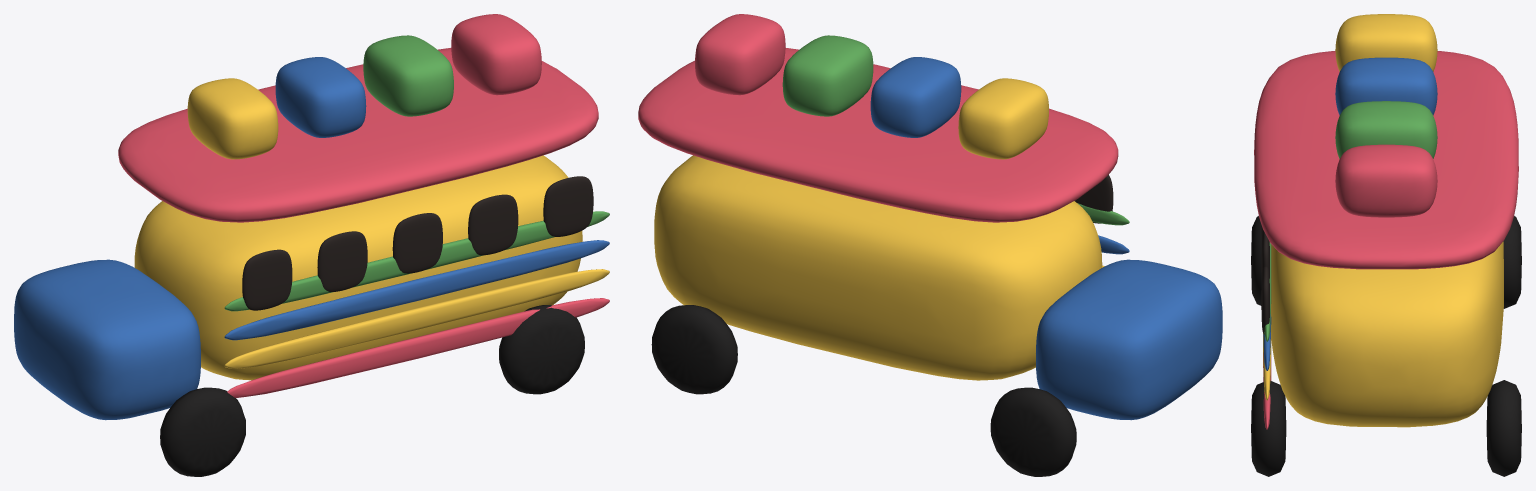
Rendered from deco_chiva.glb.
3 views of the same model, side by side, from view 1: azimuth 30°, elevation 25°; view 2: azimuth 150°, elevation 25°; view 3: azimuth 270°, elevation 25° (orthographic).
Visible parts, largest first — view 1: techo chiva.001, carrocería chiva.001, capó chiva.001, franja chiva 1.001, franja chiva 2.001, franja chiva 0.001, llanta -0.17-1.001, maleta 0.001, maleta 2.001, maleta 3.001, maleta 1.001, llanta 0.1-1.001 (+6 smaller); view 2: carrocería chiva.001, techo chiva.001, capó chiva.001, llanta -0.001, llanta 0.001, maleta 2.001, maleta 0.001, maleta 1.001, maleta 3.001, ventana chiva 0.001; view 3: techo chiva.001, carrocería chiva.001, maleta 3.001, maleta 1.001, maleta 0.001, maleta 2.001, llanta 0.001, llanta 0.1-1.001, llanta -0.001, llanta -0.17-1.001, ventana chiva 4.001, ventana chiva 3.001 (+1 smaller).
Part boxes in pixels (bbox=[...]): techo chiva.001: bbox=[118, 48, 598, 222]; carrocería chiva.001: bbox=[134, 155, 582, 380]; capó chiva.001: bbox=[14, 259, 200, 420]; franja chiva 1.001: bbox=[224, 269, 609, 368]; franja chiva 2.001: bbox=[224, 240, 609, 340]; franja chiva 0.001: bbox=[227, 298, 609, 397]; llanta -0.17-1.001: bbox=[160, 387, 245, 476]; maleta 0.001: bbox=[187, 78, 278, 159]; maleta 2.001: bbox=[363, 35, 453, 116]; maleta 3.001: bbox=[451, 14, 541, 95]; maleta 1.001: bbox=[275, 57, 366, 137]; llanta 0.1-1.001: bbox=[499, 305, 584, 394]; carrocería chiva.001: bbox=[654, 155, 1102, 380]; techo chiva.001: bbox=[638, 48, 1118, 222]; capó chiva.001: bbox=[1036, 259, 1222, 420]; llanta -0.001: bbox=[990, 387, 1076, 476]; llanta 0.001: bbox=[651, 305, 737, 394]; maleta 2.001: bbox=[782, 35, 873, 116]; maleta 0.001: bbox=[958, 78, 1048, 159]; maleta 1.001: bbox=[870, 57, 961, 137]; maleta 3.001: bbox=[695, 14, 785, 95]; ventana chiva 0.001: bbox=[1075, 175, 1113, 223]; techo chiva.001: bbox=[1254, 51, 1518, 269]; carrocería chiva.001: bbox=[1271, 241, 1503, 427]; maleta 3.001: bbox=[1335, 144, 1437, 217]; maleta 1.001: bbox=[1335, 57, 1437, 115]; maleta 0.001: bbox=[1335, 14, 1437, 71]; maleta 2.001: bbox=[1335, 101, 1437, 158]; llanta 0.001: bbox=[1486, 380, 1521, 476]; llanta 0.1-1.001: bbox=[1251, 380, 1286, 476]; llanta -0.001: bbox=[1503, 216, 1521, 308]; llanta -0.17-1.001: bbox=[1251, 216, 1261, 305]; ventana chiva 4.001: bbox=[1261, 266, 1269, 334]; ventana chiva 3.001: bbox=[1261, 230, 1269, 279].
Size of the model in its own units: 0.4198 by 0.2448 by 0.184.
